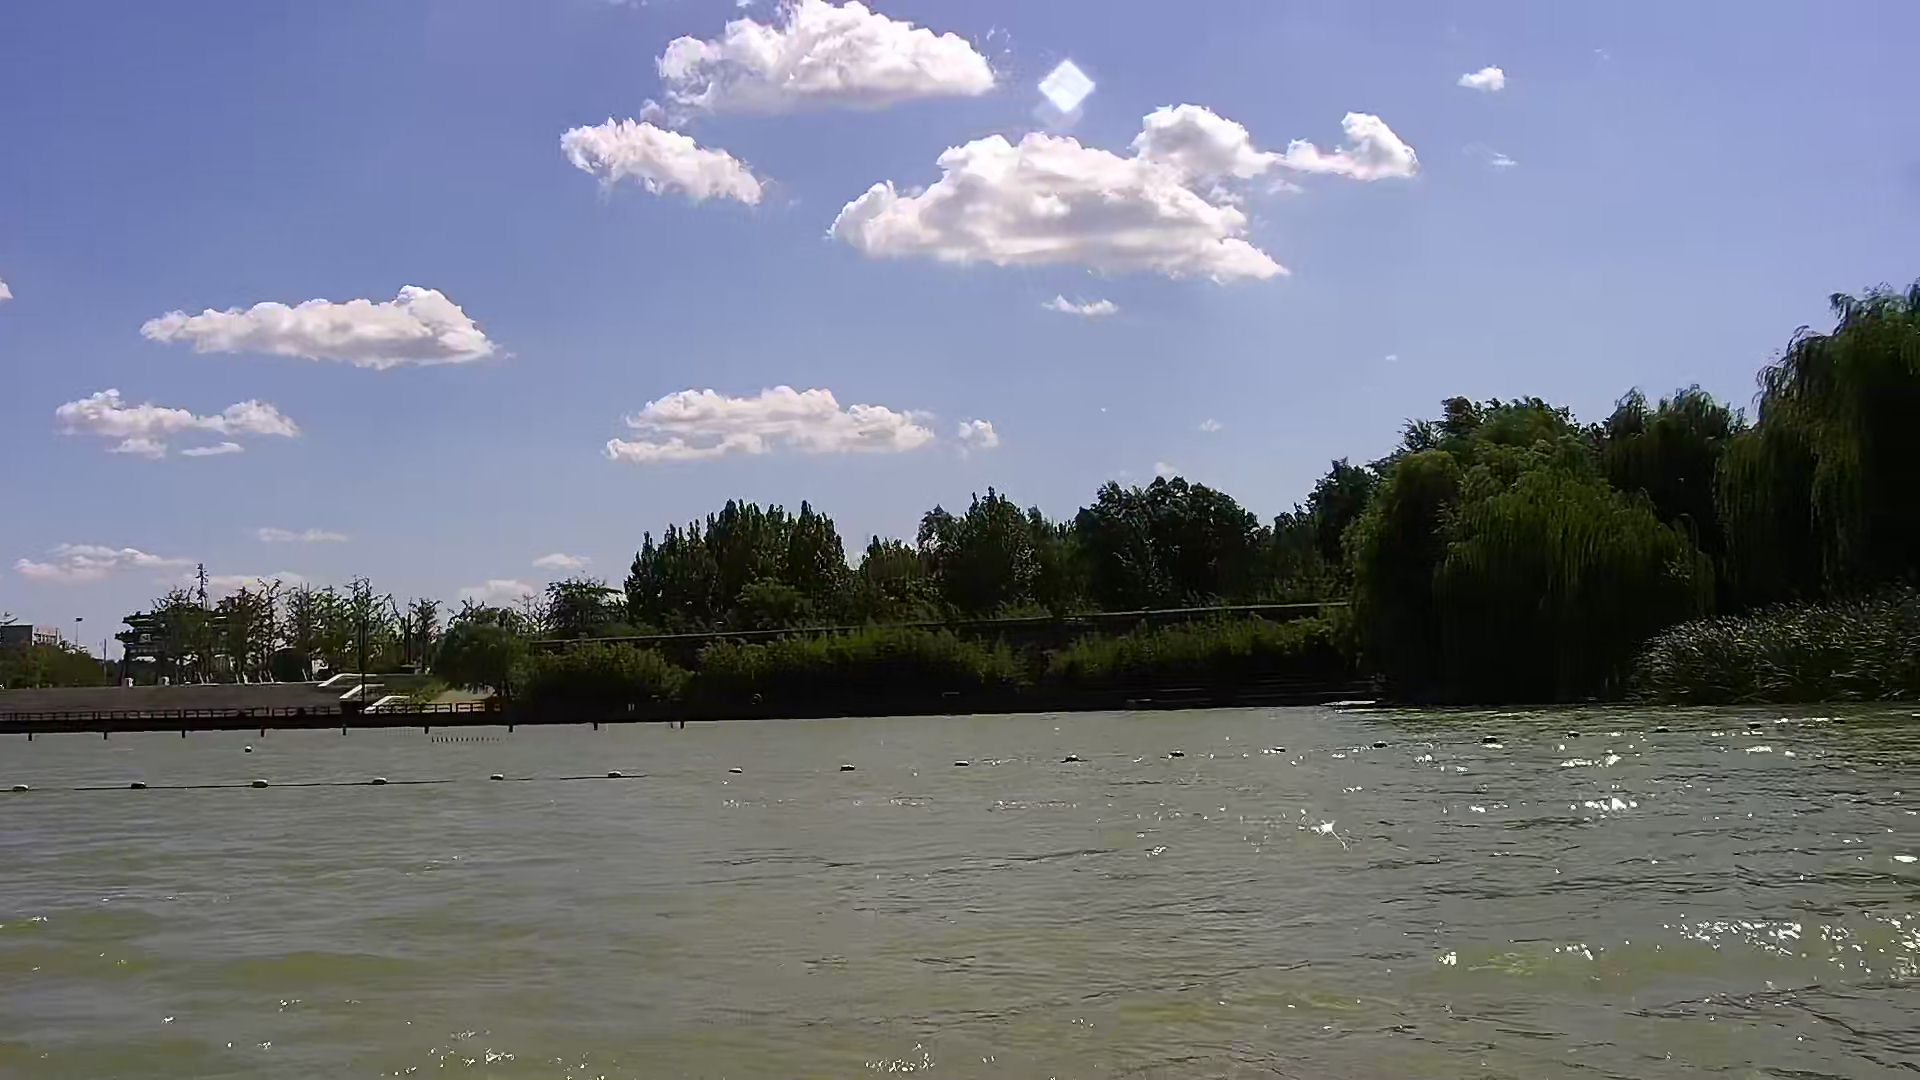ball: (240, 769, 281, 796), (1555, 717, 1590, 746), (597, 758, 632, 785), (1059, 742, 1088, 773), (483, 765, 514, 793), (1366, 728, 1396, 756), (11, 767, 36, 800), (833, 754, 866, 778), (1476, 731, 1509, 752), (367, 771, 394, 791), (125, 775, 153, 793)
harbor: (1, 684, 473, 727)
